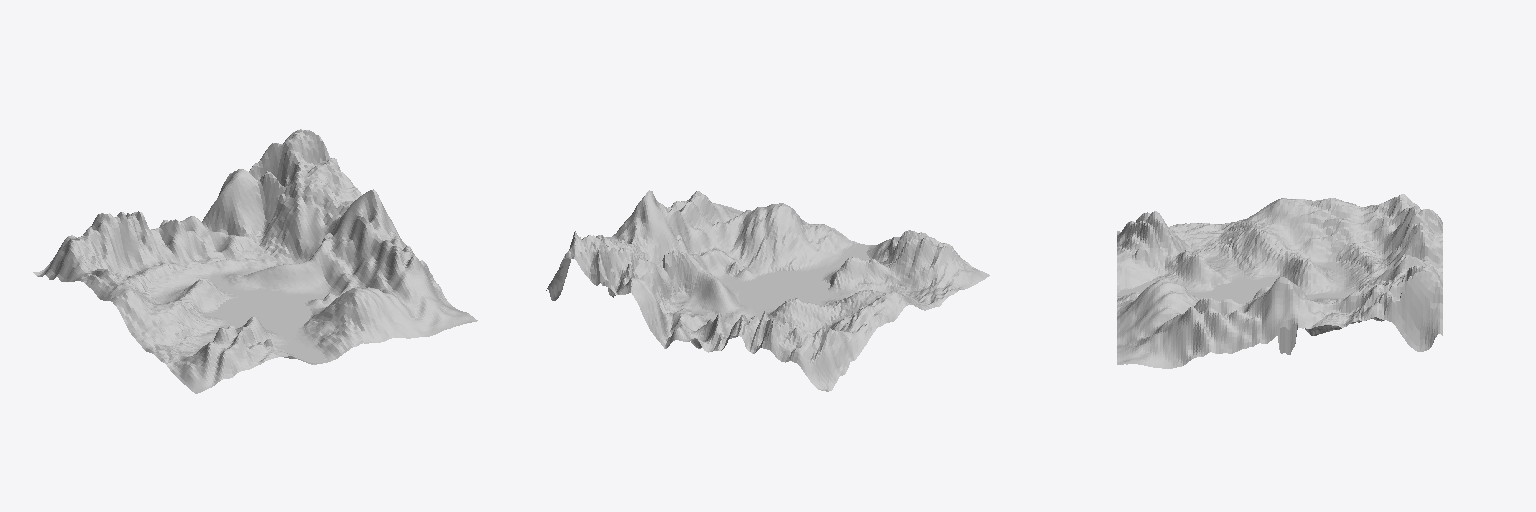
The model's file is Terrain.obj.
3 renders of one model, left to right at view 1: azimuth 30°, elevation 25°; view 2: azimuth 150°, elevation 25°; view 3: azimuth 270°, elevation 25°, orthographic.
Parts seen in each view (by area): view 1: Terrain; view 2: Terrain; view 3: Terrain.
Part boxes in pixels (x1,y1,x2,y2): Terrain: (33, 129, 477, 393); Terrain: (546, 190, 989, 391); Terrain: (1117, 194, 1442, 368).
Bounding box in the file's own units: 250 × 75.26 × 250.